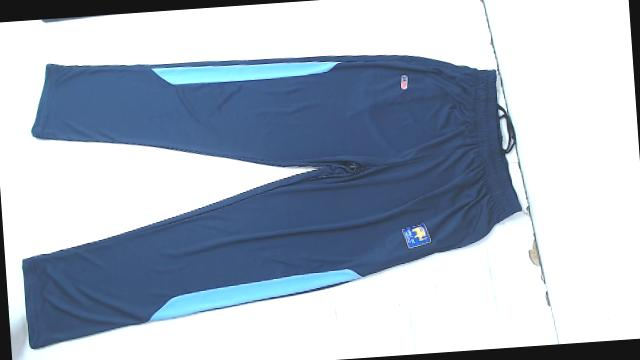new-garment: (22, 55, 520, 347)
